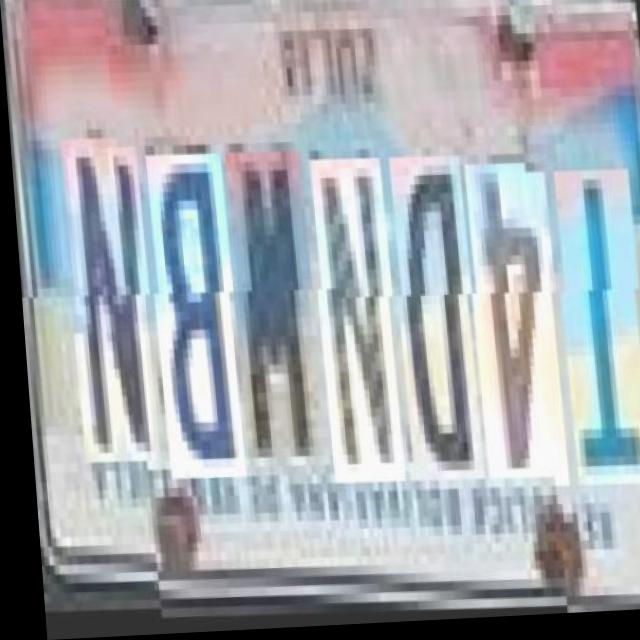4: (459, 168, 562, 487)
b: (140, 156, 240, 484)
d: (384, 160, 479, 488)
n: (56, 149, 156, 476), (305, 162, 399, 489)
t: (547, 166, 640, 484)
w: (219, 154, 319, 482)
